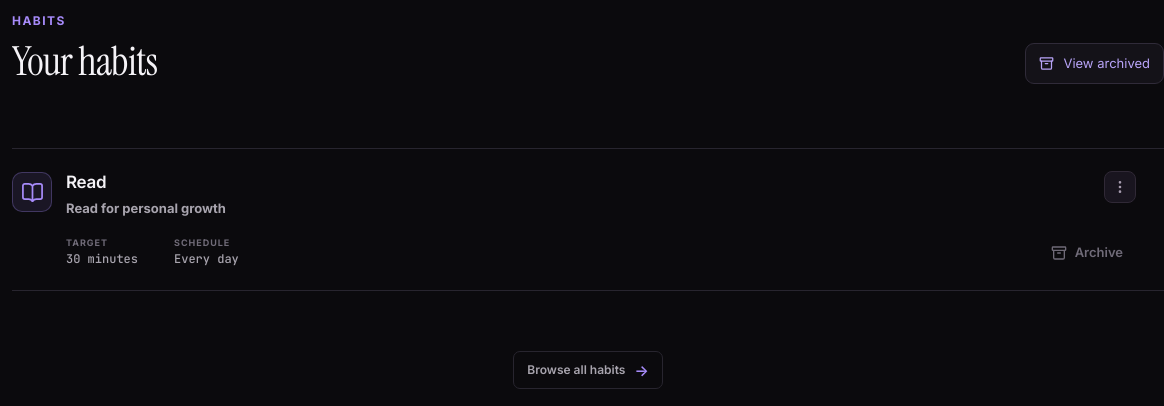
Test case: HabitList › archives a habit and removes it from the active list
Check: the heading "Read" is shown, box [66,172,106,192]
Click the button "Archive" at (1087, 253), box [1038,238,1136,268]
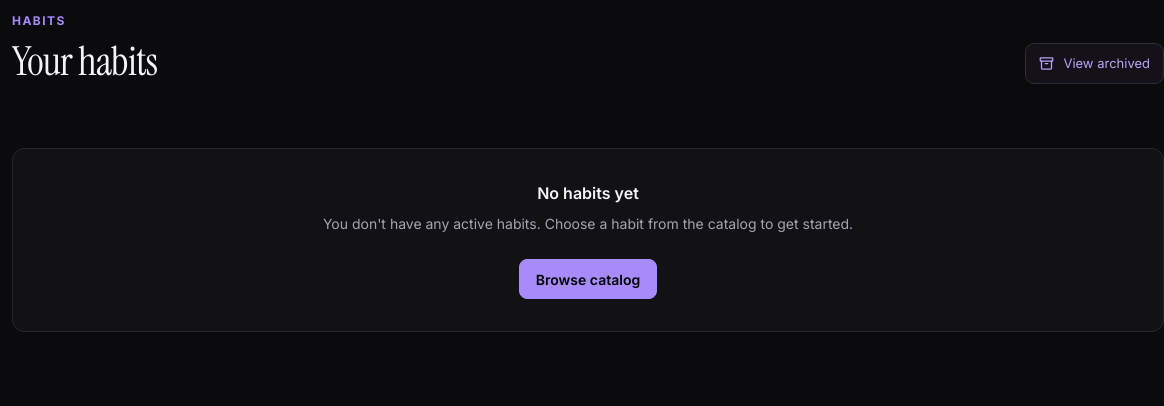
Check: the button "Read" is gone
